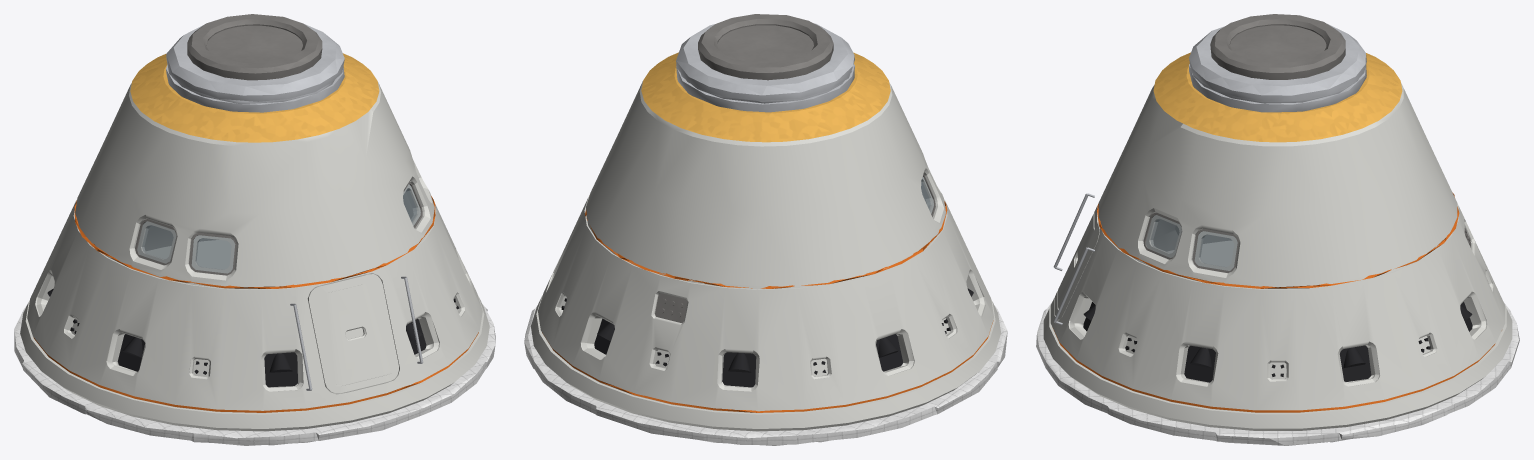
File: ax_cmd_03_ares_heavy_capsule.glb
3 views of the same model, side by side, from view 1: azimuth 30°, elevation 25°; view 2: azimuth 150°, elevation 25°; view 3: azimuth 270°, elevation 25° (orthographic).
Visible parts, largest first — view 1: shell, mli_crown, hatch_door_1, heat_shield, nose_cap, docking_port, window_glass, docking_hatch, orange_stripes, abort_bay_liners, window_frames, abort_nozzles (+1 smaller); view 2: shell, mli_crown, heat_shield, nose_cap, docking_port, docking_hatch, orange_stripes, abort_bay_liners, abort_nozzles, umbilical_panel; view 3: shell, mli_crown, heat_shield, nose_cap, docking_port, docking_hatch, window_glass, orange_stripes, abort_bay_liners, hatch_door_1, abort_nozzles, window_frames (+1 smaller).
Boxes of the visible parts, x1=… form: shell: x1=20, y1=81, x2=489, y2=431; mli_crown: x1=130, y1=53, x2=379, y2=142; hatch_door_1: x1=307, y1=274, x2=398, y2=393; heat_shield: x1=14, y1=304, x2=495, y2=445; nose_cap: x1=166, y1=24, x2=344, y2=112; docking_port: x1=187, y1=14, x2=322, y2=80; window_glass: x1=137, y1=184, x2=420, y2=273; docking_hatch: x1=206, y1=25, x2=302, y2=63; orange_stripes: x1=33, y1=196, x2=478, y2=412; abort_bay_liners: x1=117, y1=319, x2=426, y2=387; window_frames: x1=135, y1=182, x2=422, y2=275; abort_nozzles: x1=47, y1=288, x2=423, y2=372; shell: x1=531, y1=81, x2=1000, y2=431; mli_crown: x1=641, y1=52, x2=890, y2=142; heat_shield: x1=524, y1=305, x2=1007, y2=445; nose_cap: x1=676, y1=23, x2=854, y2=112; docking_port: x1=698, y1=14, x2=833, y2=80; docking_hatch: x1=718, y1=25, x2=813, y2=62; orange_stripes: x1=542, y1=201, x2=993, y2=412; abort_bay_liners: x1=594, y1=318, x2=903, y2=387; abort_nozzles: x1=597, y1=288, x2=973, y2=372; umbilical_panel: x1=655, y1=293, x2=687, y2=322; shell: x1=1043, y1=83, x2=1512, y2=430; mli_crown: x1=1153, y1=52, x2=1402, y2=142; heat_shield: x1=1036, y1=301, x2=1519, y2=445; nose_cap: x1=1189, y1=23, x2=1366, y2=112; docking_port: x1=1210, y1=14, x2=1345, y2=79; docking_hatch: x1=1230, y1=25, x2=1326, y2=62; window_glass: x1=1146, y1=215, x2=1237, y2=270; orange_stripes: x1=1053, y1=192, x2=1495, y2=412; abort_bay_liners: x1=1083, y1=302, x2=1472, y2=382; hatch_door_1: x1=1055, y1=205, x2=1099, y2=320; abort_nozzles: x1=1083, y1=305, x2=1472, y2=367; window_frames: x1=1143, y1=212, x2=1238, y2=272.
Size of the model in its own units: 5 by 3.8 by 5.
Materials: 8 (4 with a texture image).
